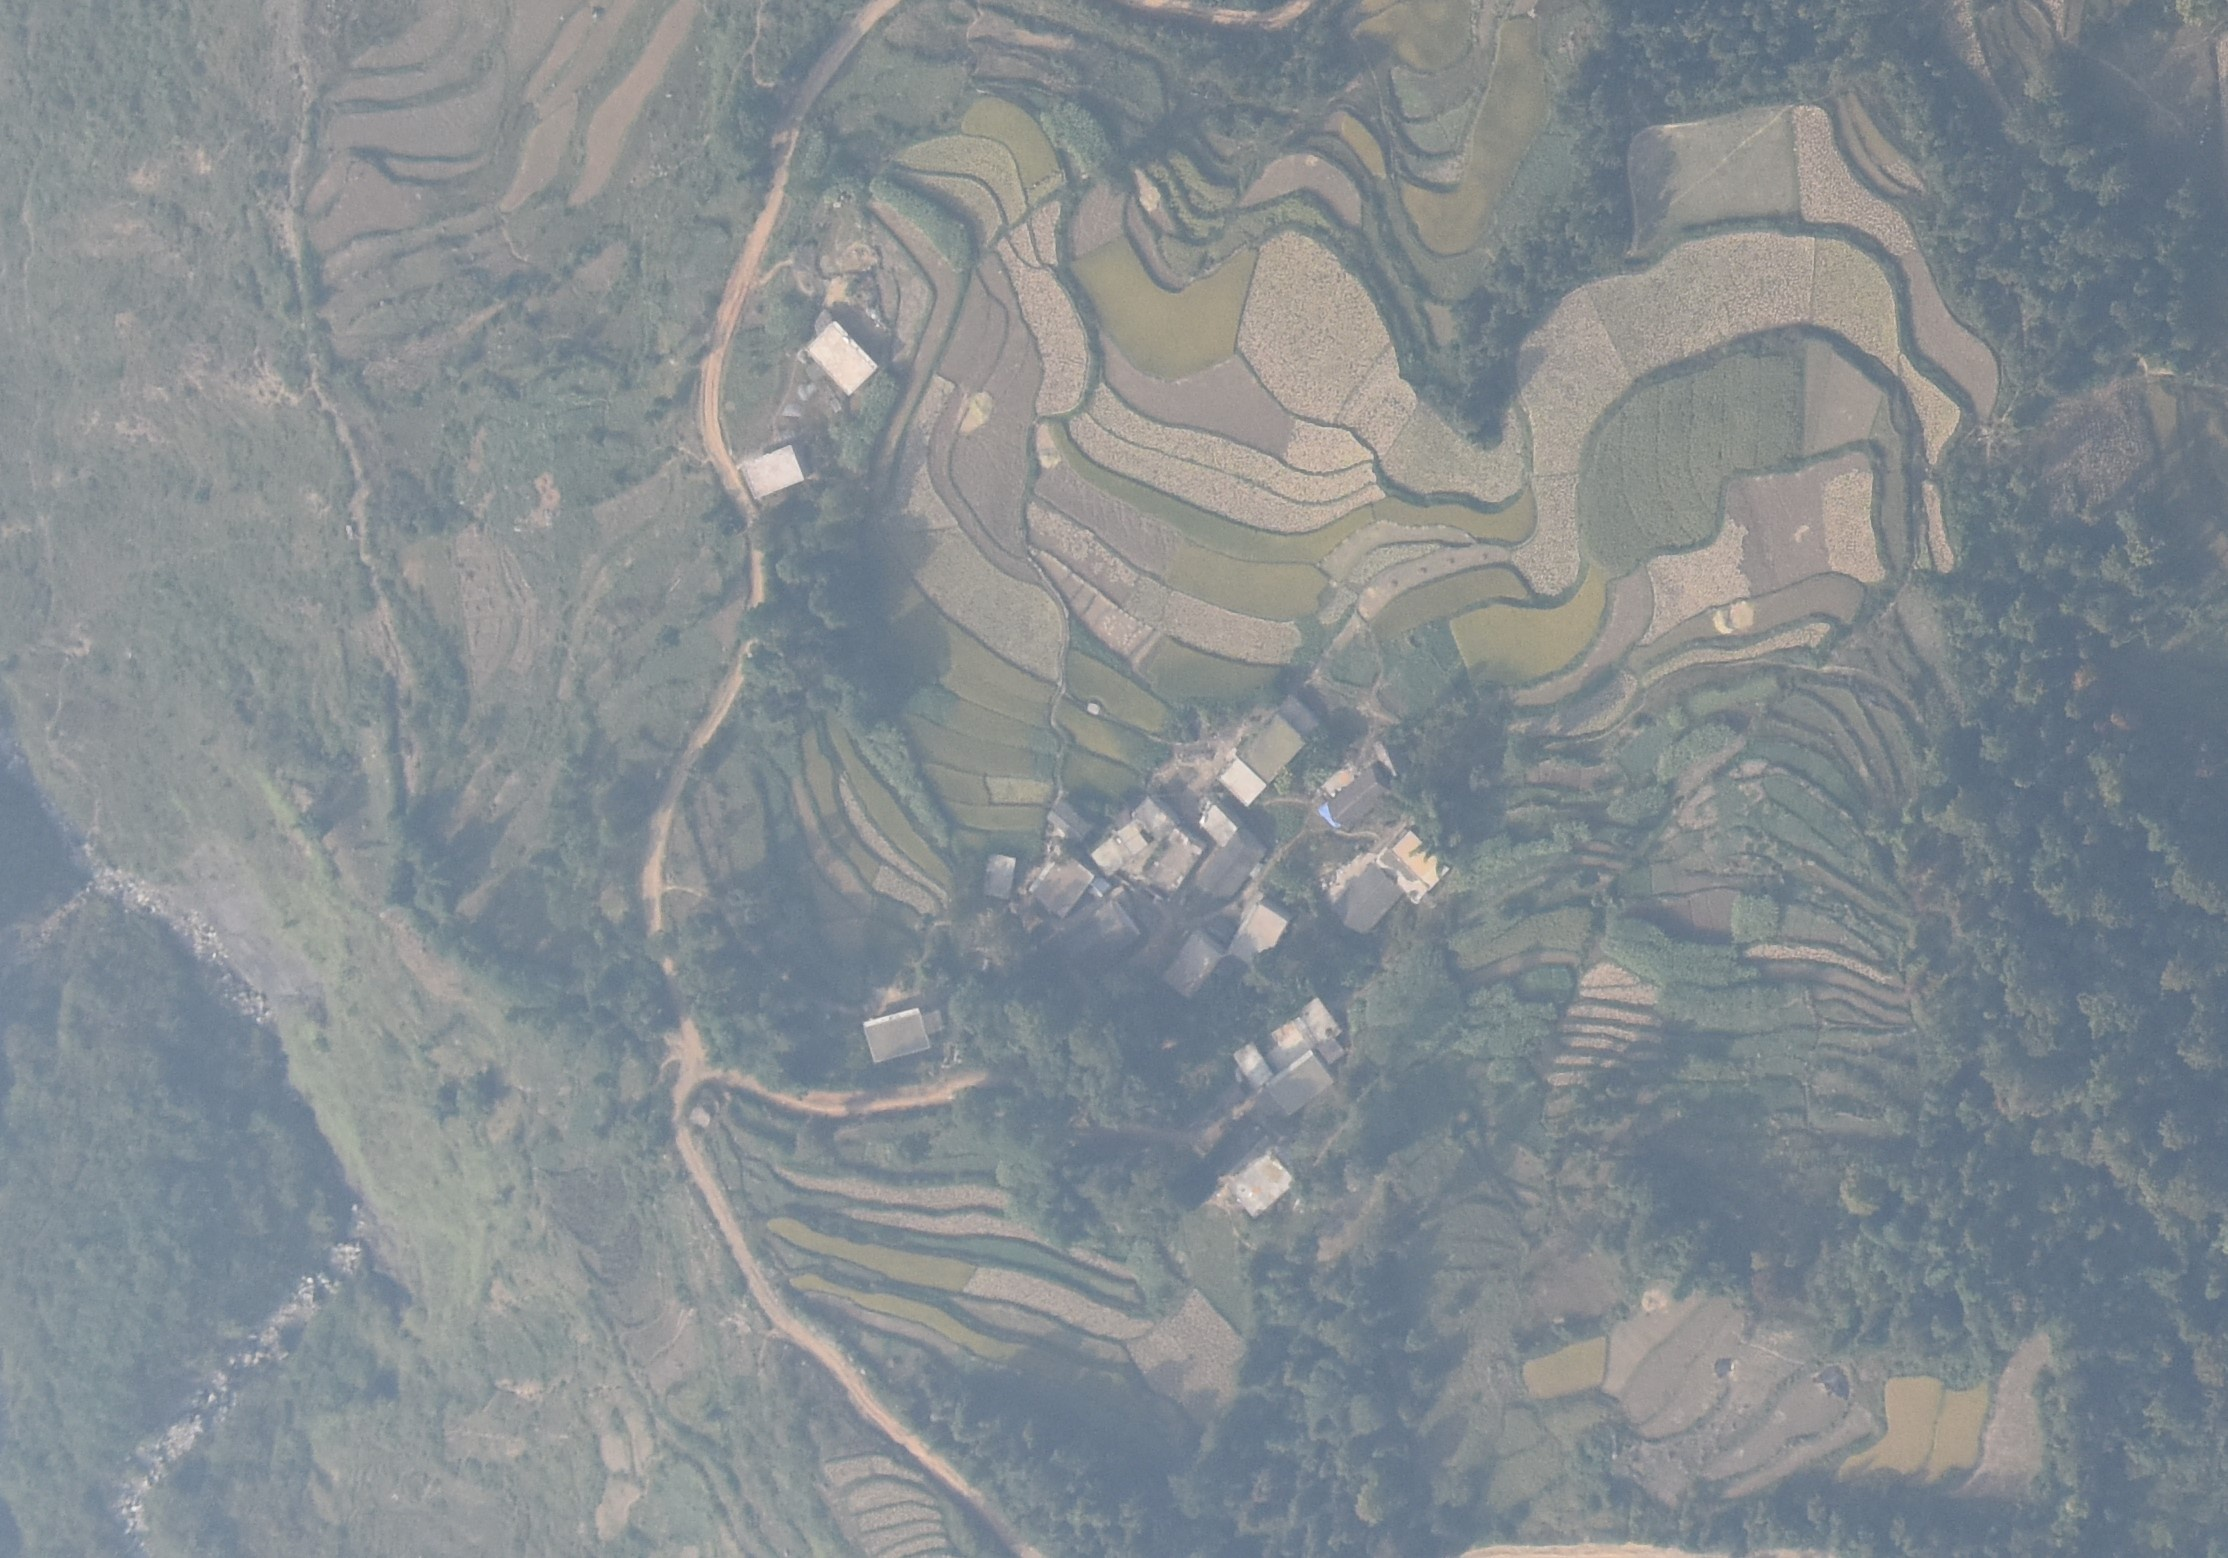building: (804, 322, 879, 396), (1194, 830, 1268, 903), (1331, 860, 1402, 935), (1265, 1048, 1334, 1114), (1028, 848, 1094, 918), (863, 1008, 945, 1064), (1226, 1152, 1293, 1218), (1224, 903, 1287, 974), (1243, 716, 1305, 787), (1141, 826, 1200, 899), (1161, 931, 1222, 1001), (1327, 764, 1388, 826), (740, 444, 802, 500), (1090, 820, 1150, 877), (1392, 830, 1449, 887), (1376, 847, 1429, 904), (1265, 1018, 1315, 1075), (1217, 759, 1266, 808), (1233, 1040, 1275, 1094), (1131, 798, 1175, 845), (1300, 997, 1343, 1047), (1200, 804, 1238, 847), (984, 854, 1016, 899)
